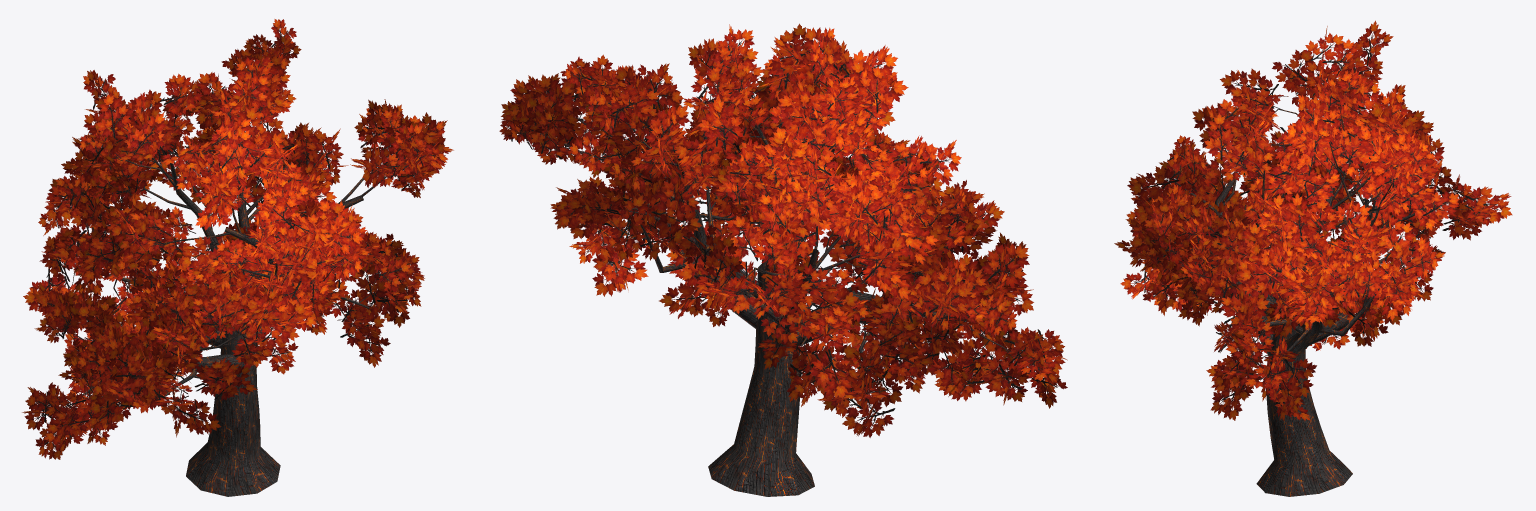
The model's file is nature-red-fireheart-tree_v3.glb.
The picture shows the model from 3 angles, left to right: view 1: azimuth 30°, elevation 25°; view 2: azimuth 150°, elevation 25°; view 3: azimuth 270°, elevation 25°; orthographic projection. The views are drawn at different scales.
Visible parts, largest first — view 1: nature-red-fireheart-tree; view 2: nature-red-fireheart-tree; view 3: nature-red-fireheart-tree.
Boxes of the visible parts, x1,y1,x2,y2 form: nature-red-fireheart-tree: [22, 19, 453, 496]; nature-red-fireheart-tree: [499, 23, 1067, 496]; nature-red-fireheart-tree: [1114, 20, 1512, 496].
Size of the model in its own units: 18.03 by 15.11 by 13.6.
Materials: 2 (2 with a texture image).
